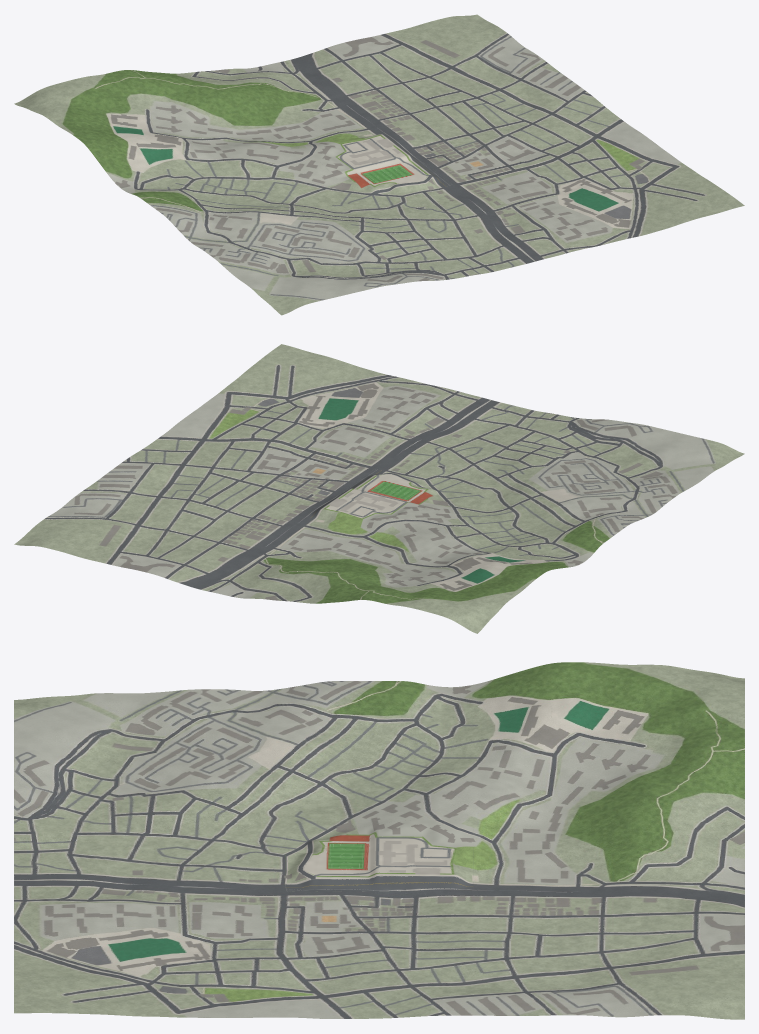
3 renders of one model, top to bottom at view 1: azimuth 30°, elevation 25°; view 2: azimuth 150°, elevation 25°; view 3: azimuth 270°, elevation 25°, orthographic. The views are drawn at different scales.
Visible parts, largest first — view 1: ground-area, ground-school; view 2: ground-area, ground-school; view 3: ground-area, ground-school.
Boxes of the visible parts, bbox=[...] form: ground-area: bbox=[14, 14, 744, 315]; ground-school: bbox=[298, 133, 452, 203]; ground-area: bbox=[14, 344, 744, 633]; ground-school: bbox=[306, 469, 461, 531]; ground-area: bbox=[14, 662, 744, 1019]; ground-school: bbox=[285, 819, 473, 891].
Bounding box in the file's own units: 1088 × 83.28 × 1088.
2 materials, 2 textured.
